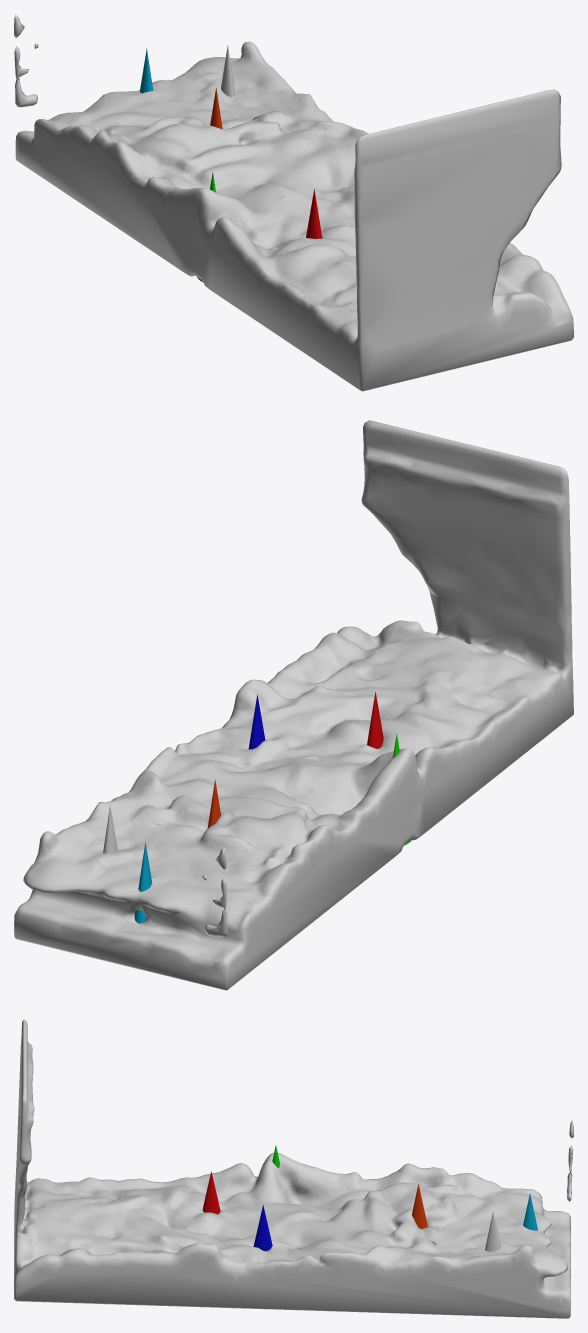
3 renders of one model, top to bottom at view 1: azimuth 30°, elevation 25°; view 2: azimuth 150°, elevation 25°; view 3: azimuth 270°, elevation 25°, orthographic. The views are drawn at different scales.
Parts seen in each view (by area): view 1: Liquid_Domain; view 2: Liquid_Domain; view 3: Liquid_Domain, 円錐.002, 円錐.001, 円錐.004.
Part boxes in pixels (x1=…): Liquid_Domain: x1=14, y1=14, x2=573, y2=391; Liquid_Domain: x1=14, y1=420, x2=573, y2=990; Liquid_Domain: x1=14, y1=1019, x2=573, y2=1318; 円錐.002: x1=253, y1=1205, x2=272, y2=1251; 円錐.001: x1=202, y1=1171, x2=220, y2=1214; 円錐.004: x1=412, y1=1184, x2=427, y2=1228.
Bounding box in the file's own units: 129 × 158 × 363.
